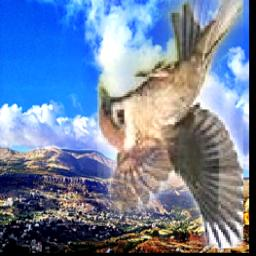Sparrow: (97, 0, 243, 248)
